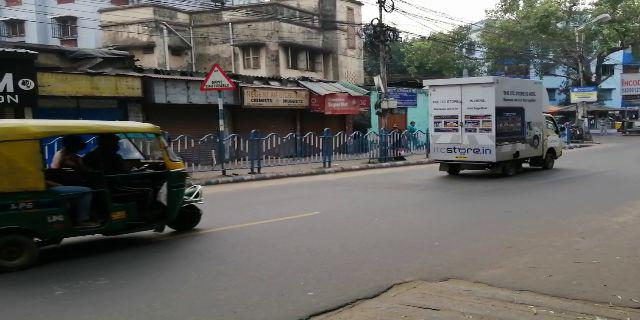Autorickshaw: (1, 120, 200, 252)
Minitruck: (423, 80, 564, 173)
